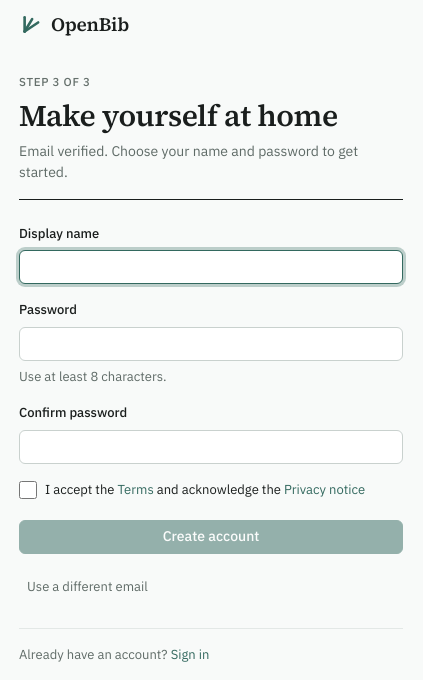
mailbox-first registration › requires fresh consent when legal versions change
Step 1. Type "Reader" into the field labelled "Display name" → (211, 268), box [19,250,403,284]
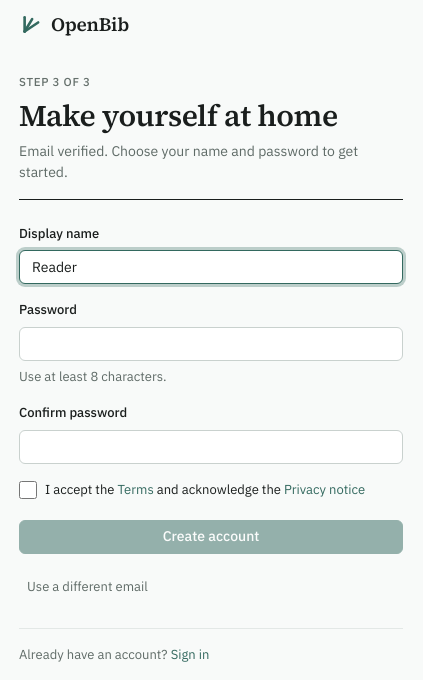
Step 2. Type "a sufficiently long password" into the password field labelled "Password Use at least 8 characters." → (211, 344), box [19,327,403,361]
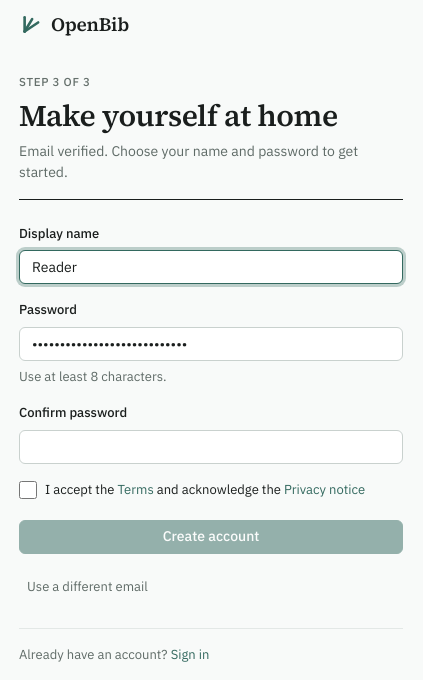
Step 3. Type "a sufficiently long password" into the password field labelled "Confirm password" → (211, 447), box [19,430,403,464]
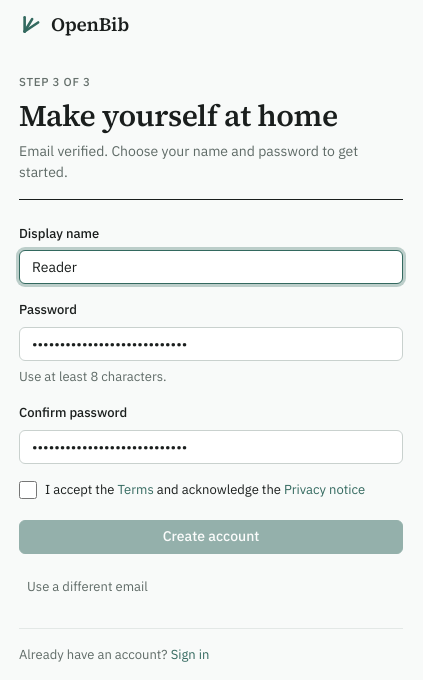
Step 4. Click the checkbox → (28, 490), box [19,481,37,499]
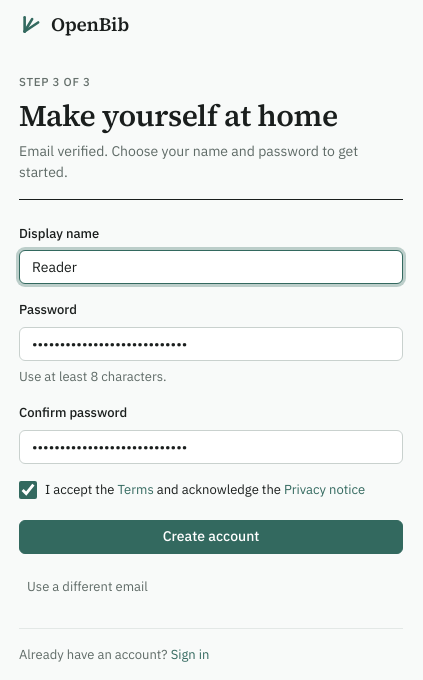
Step 5. Click the button "Create account" → (211, 537), box [19,520,403,554]
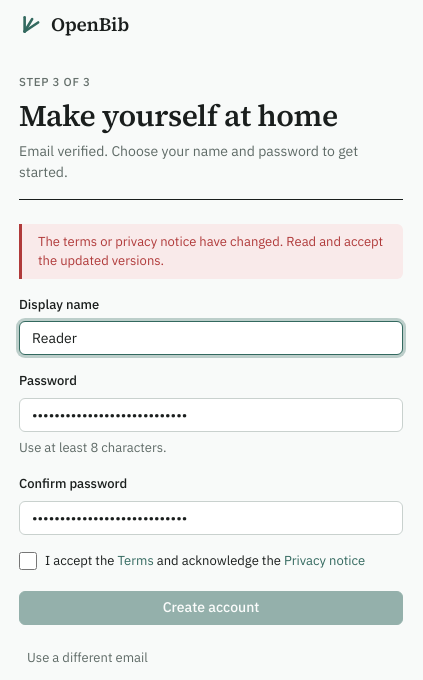
Result: the checkbox is not checked at [19,552,37,570]
Result: the message shows "terms or privacy notice have changed" at [38,233,383,269]
